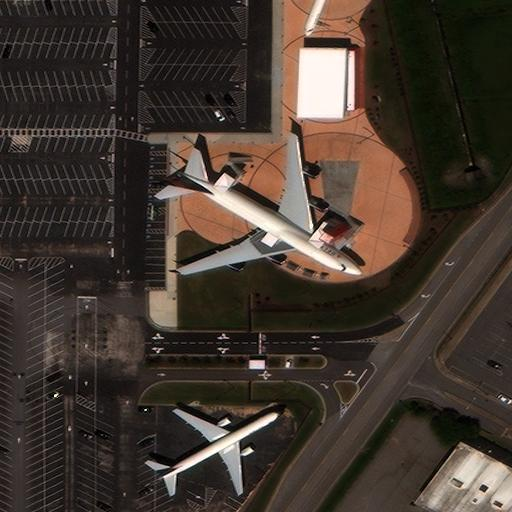Large Civil Transport: (162, 134, 363, 277), (151, 406, 285, 492)
Medium Civil Transport: (297, 0, 360, 38)
